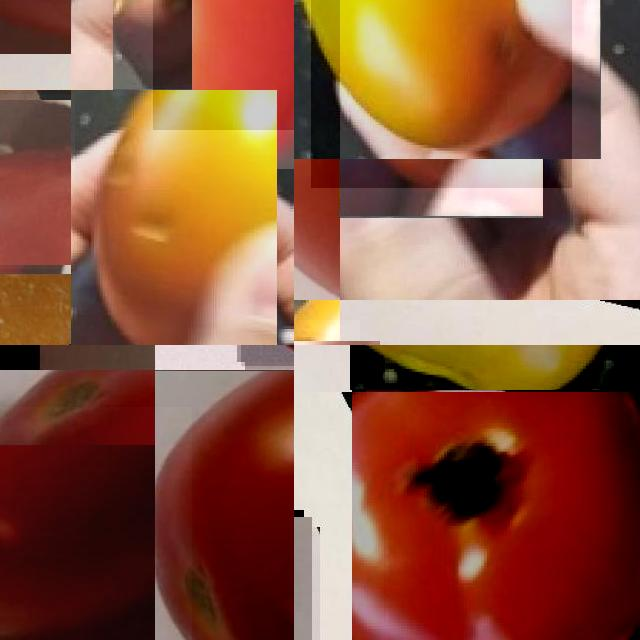Fresh Tomato: (352, 392, 640, 640), (0, 407, 192, 640), (155, 371, 294, 640)
Rotten Tomato: (71, 90, 277, 345), (311, 0, 572, 188), (0, 94, 75, 269)
